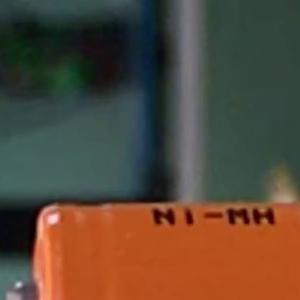NI-MH: (143, 198, 284, 234)
